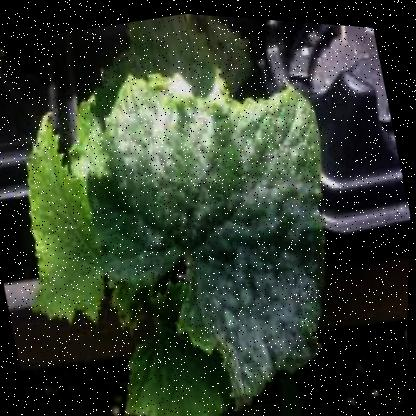PowderyMildew: (127, 95, 330, 324)
